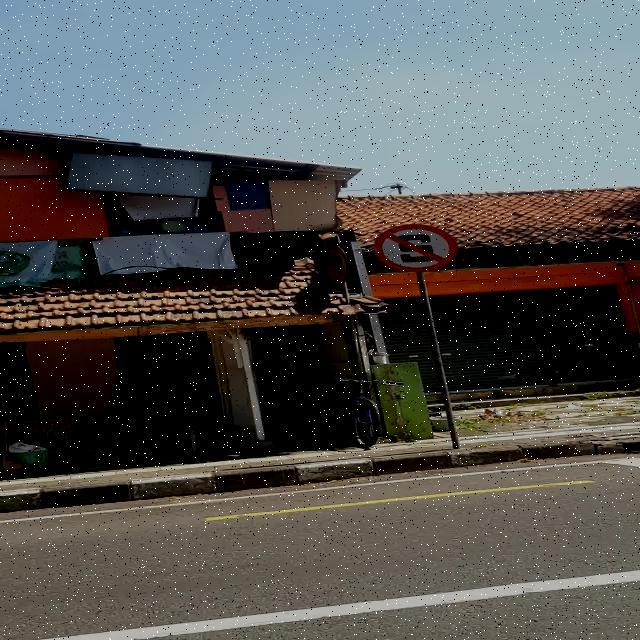Dilarang Berhenti: (374, 224, 458, 272)
